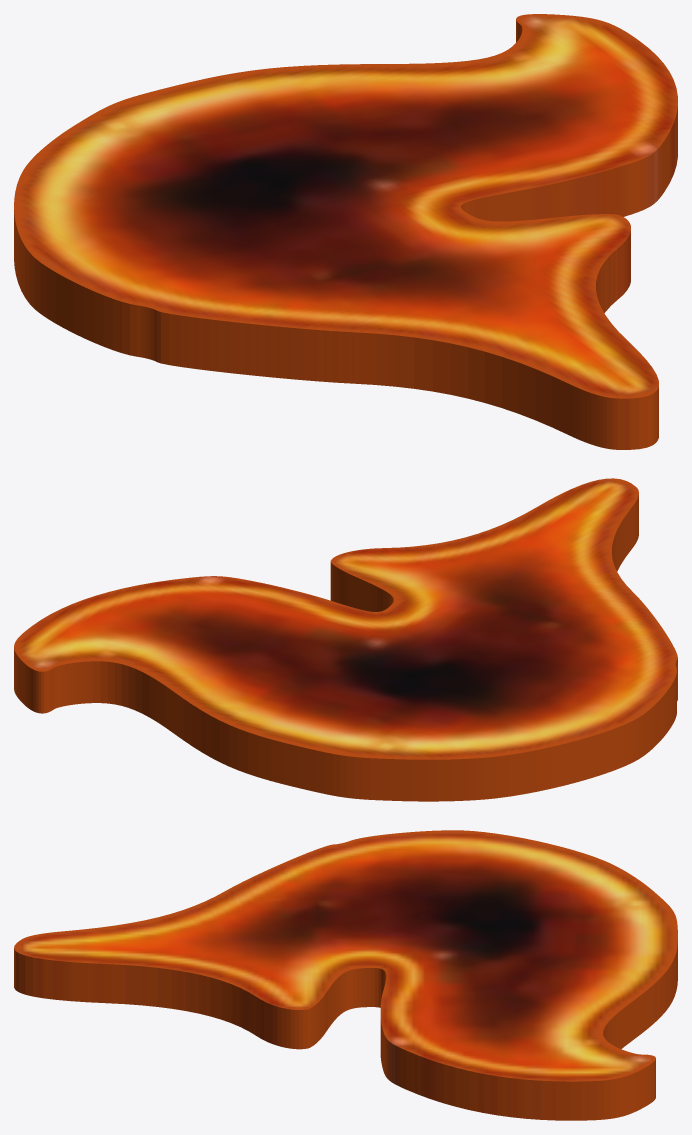
The picture shows the model from 3 angles, top to bottom: view 1: azimuth 30°, elevation 25°; view 2: azimuth 150°, elevation 25°; view 3: azimuth 270°, elevation 25°; orthographic projection. The views are drawn at different scales.
Parts seen in each view (by area): view 1: path1587; view 2: path1587; view 3: path1587.
Part boxes in pixels (x1,y1,x2,y2): path1587: (14,14,677,449); path1587: (14,478,677,801); path1587: (14,830,677,1120).
Bounding box in the file's own units: 55.05 × 4 × 61.48.
Materials: 1 (1 with a texture image).
